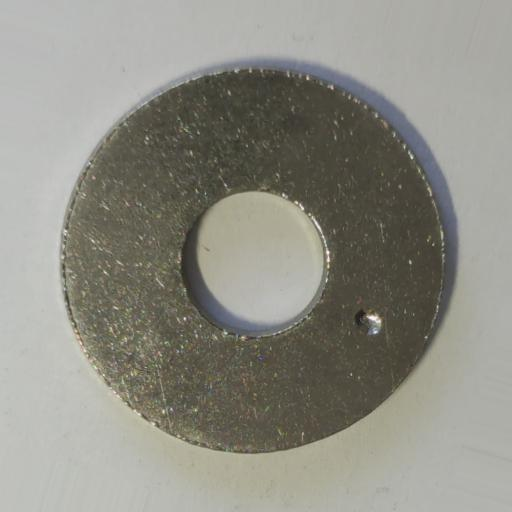circular_cavity: (353, 306, 385, 335)
